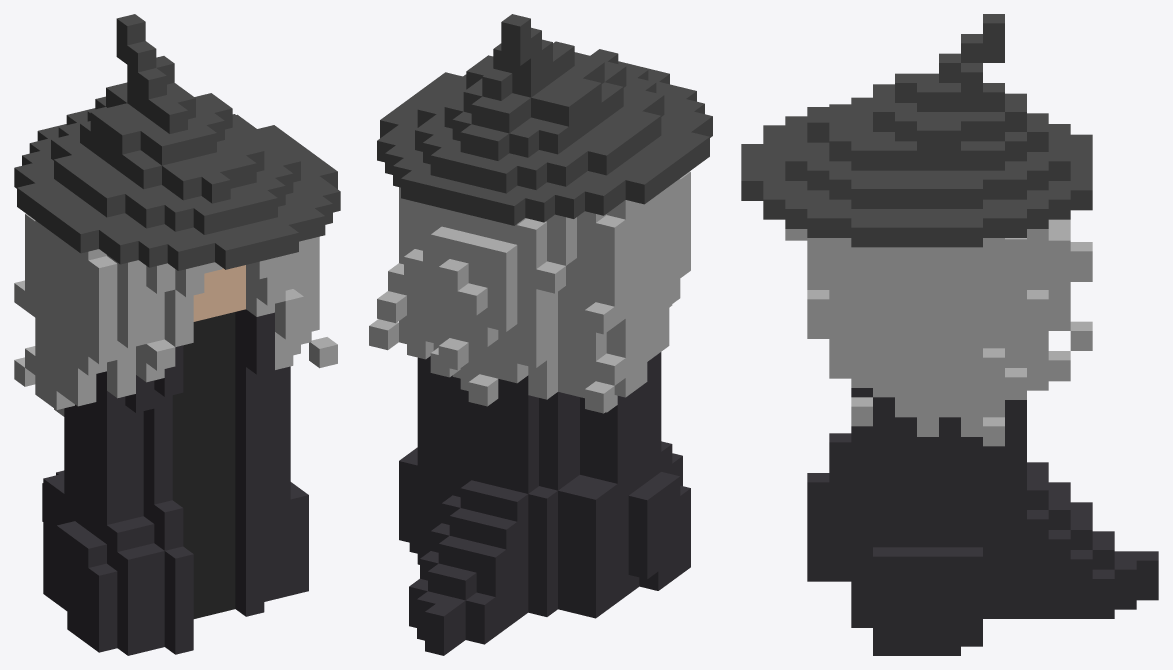
File: Bruxa 01 - Andando-04.obj
3 views of the same model, side by side, from view 1: azimuth 30°, elevation 25°; view 2: azimuth 150°, elevation 25°; view 3: azimuth 270°, elevation 25° (orthographic). The views are drawn at different scales.
Size of the model in its own units: 14 by 29 by 19.
1 material, 1 textured.
